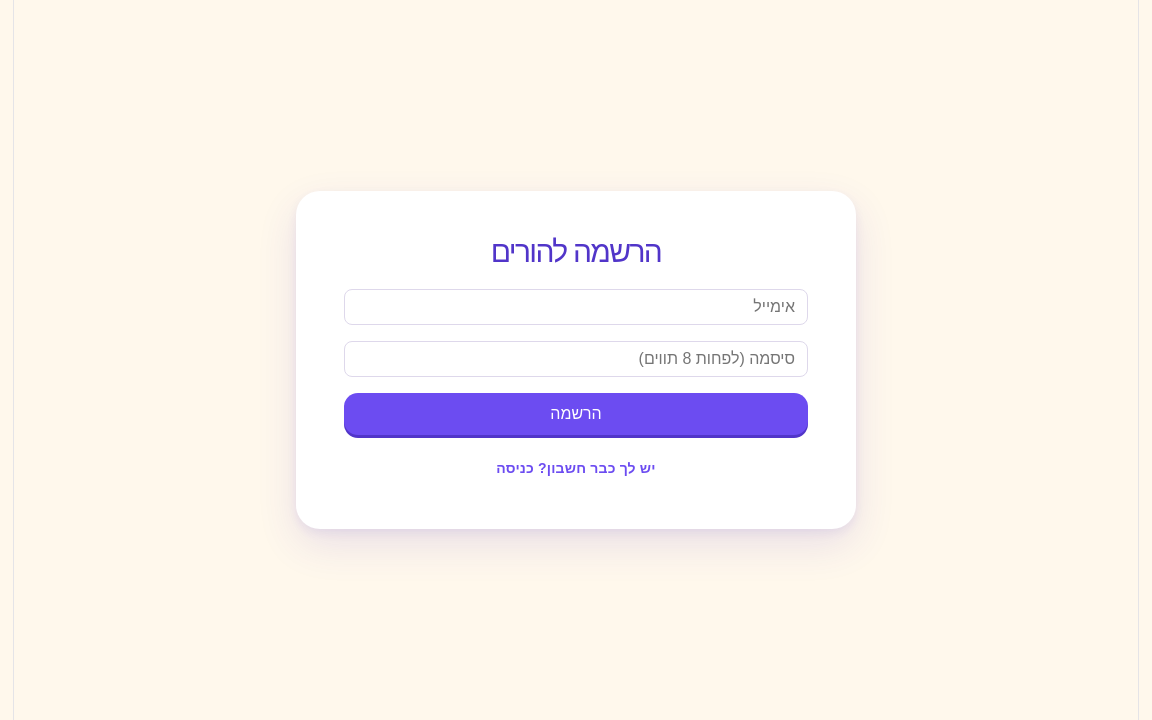
Test: RegisterPage › shows the invalid-input message for a 400 response
The image size is (1152, 720).
Type "parent@example.com" into the field labelled "אימייל".
click(576, 307); type("parent@example.com")  # box [344, 289, 808, 325]
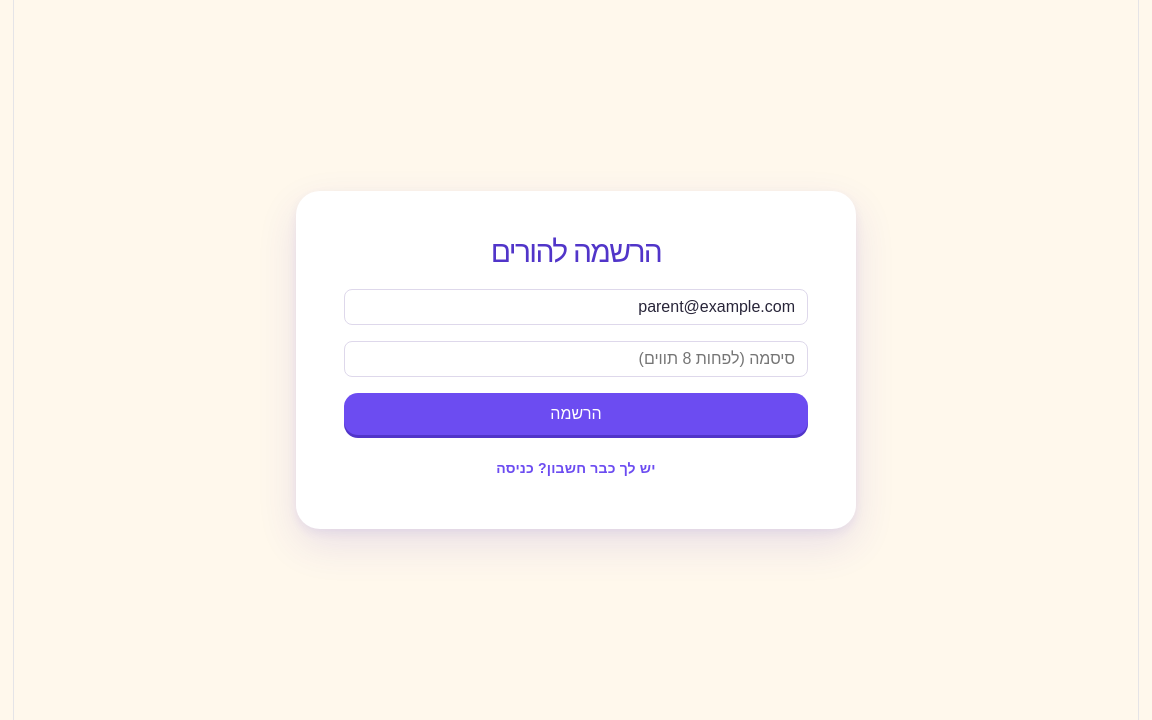
Type "correct-horse" into the password field labelled "סיסמה".
click(576, 359); type("correct-horse")  # box [344, 341, 808, 377]
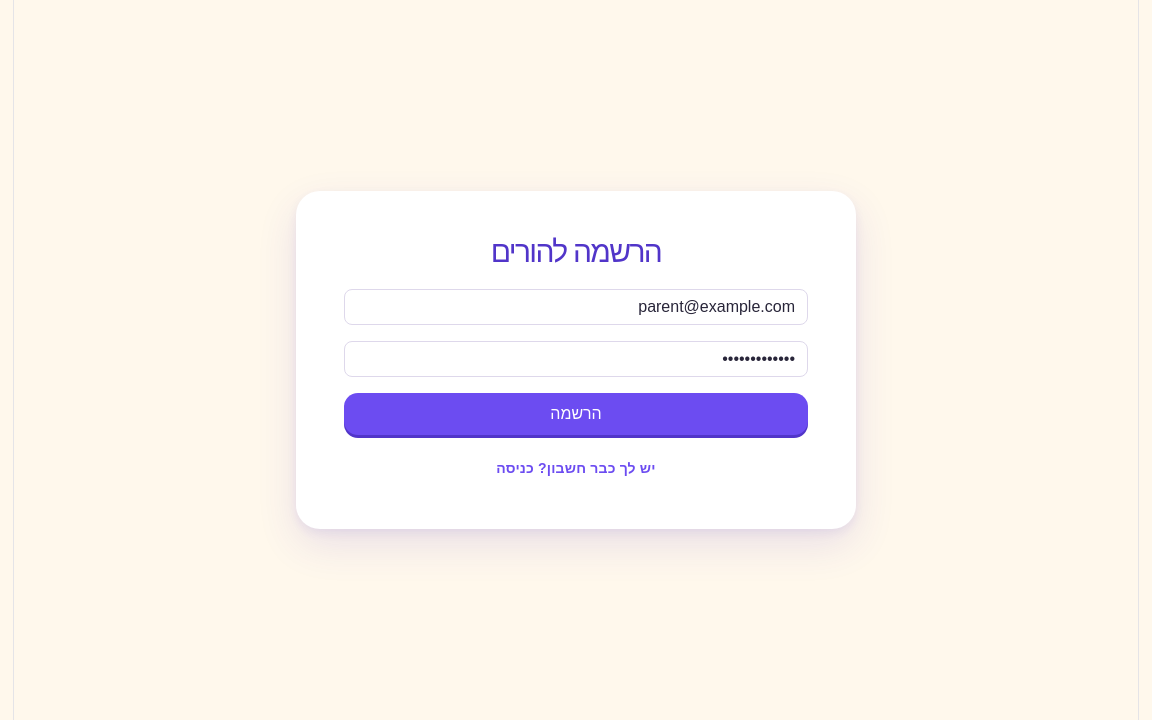
Click the button "הרשמה".
click(576, 414)  # box [344, 393, 808, 435]
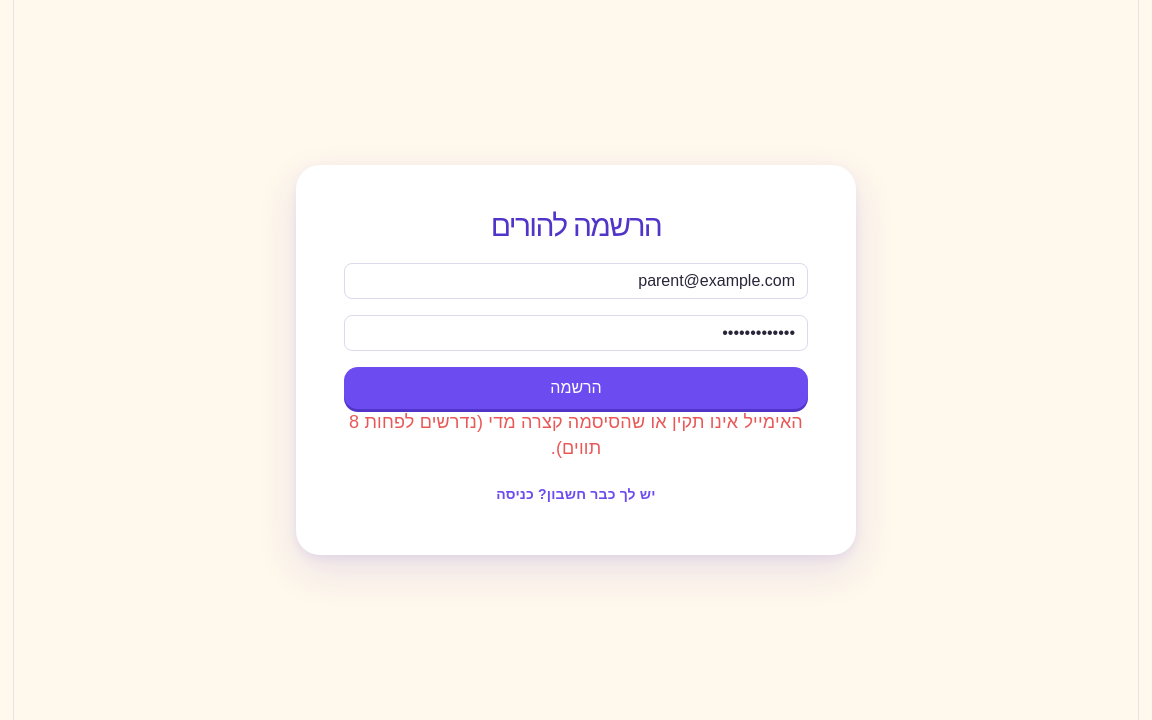
Expected: the text "האימייל אינו תקין או שהסיסמה קצרה מדי (נדרשים לפחות 8 תווים)." is shown, [344, 409, 808, 461]
